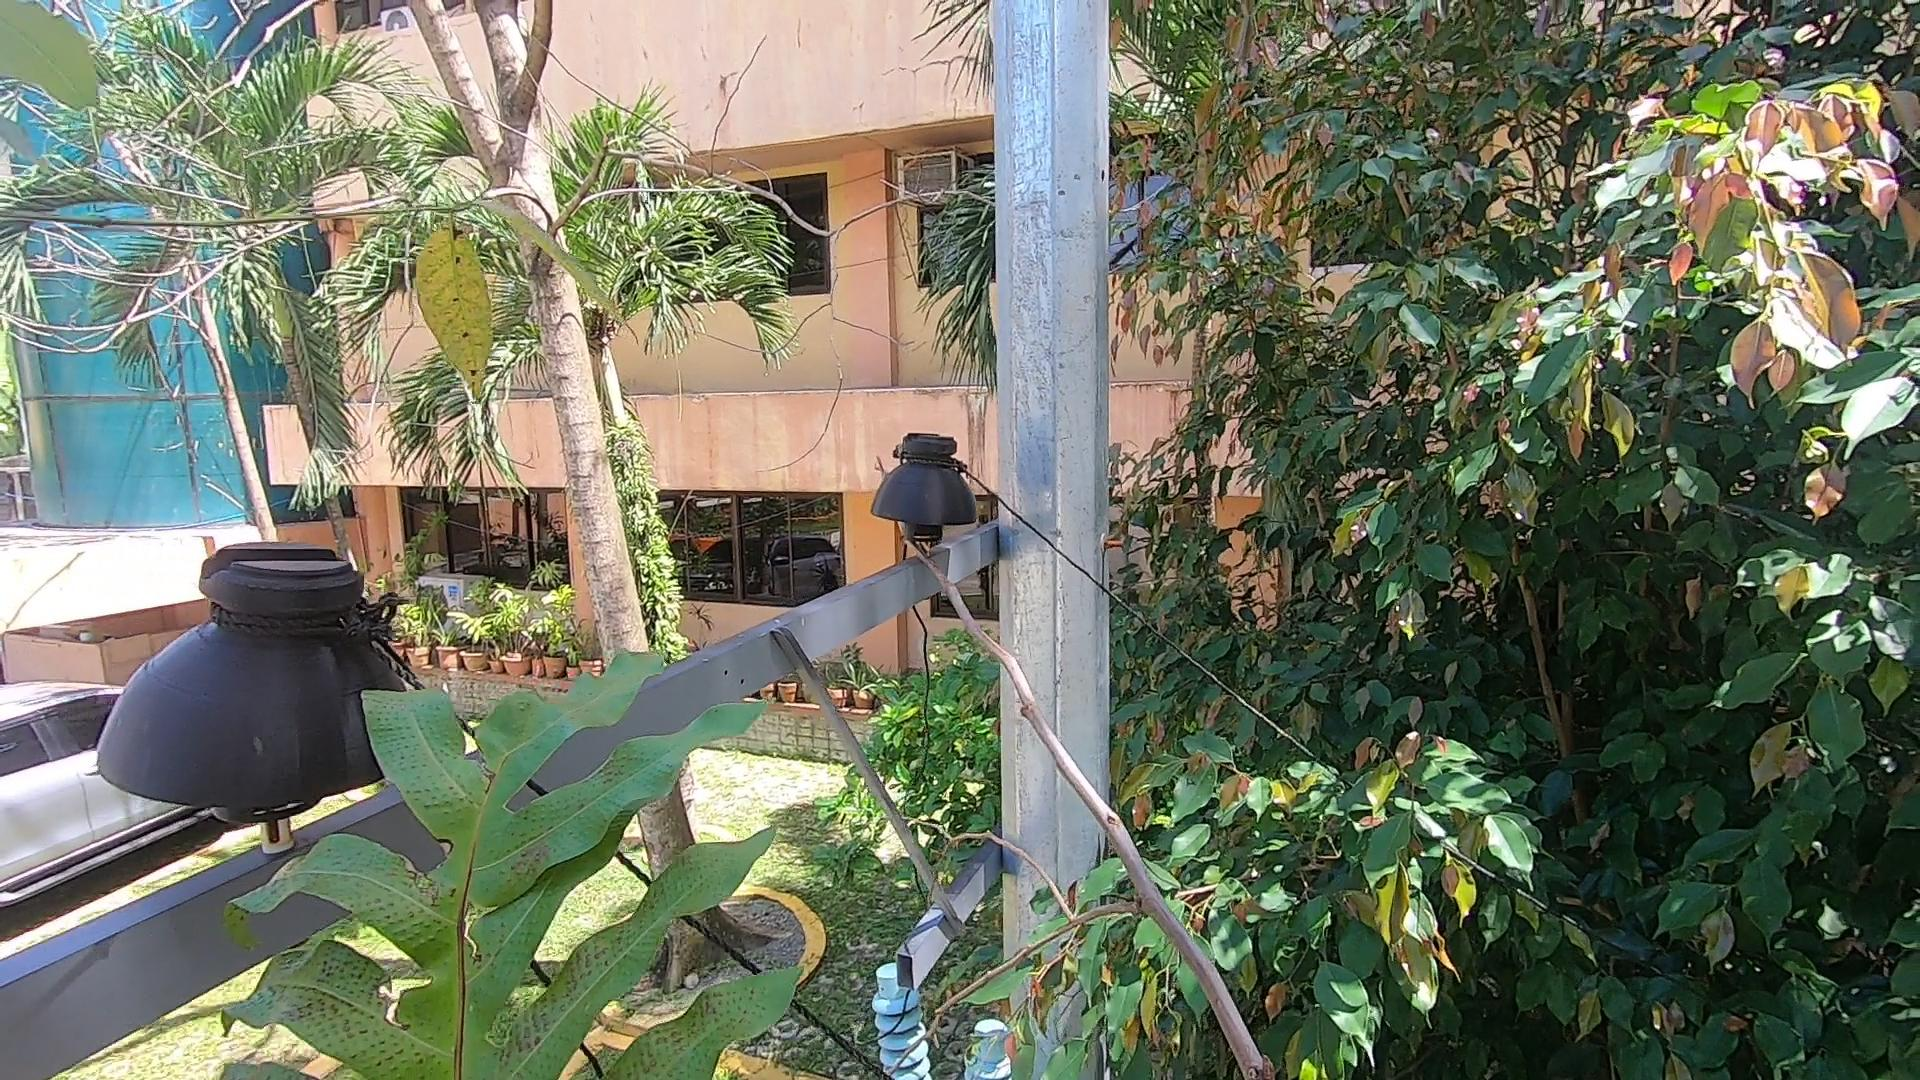branch with leaves: (916, 913, 1203, 1077)
leaf: (224, 682, 855, 1080)
tree branch: (887, 520, 1298, 1080)
